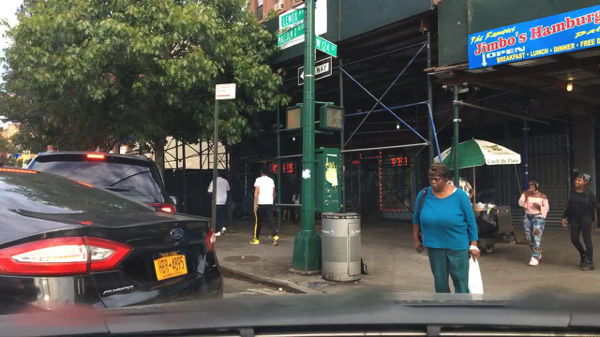car: (0, 166, 226, 308), (24, 148, 177, 213)
person: (409, 160, 484, 294), (560, 170, 599, 272), (248, 159, 282, 248), (517, 177, 550, 267), (205, 168, 230, 237), (439, 164, 475, 206), (281, 186, 295, 223), (292, 185, 304, 221)
traffic light: (314, 103, 346, 133), (285, 103, 306, 129)
traffic sign: (298, 54, 334, 87), (277, 20, 313, 48), (314, 34, 343, 58), (279, 8, 308, 30), (214, 82, 237, 101)
